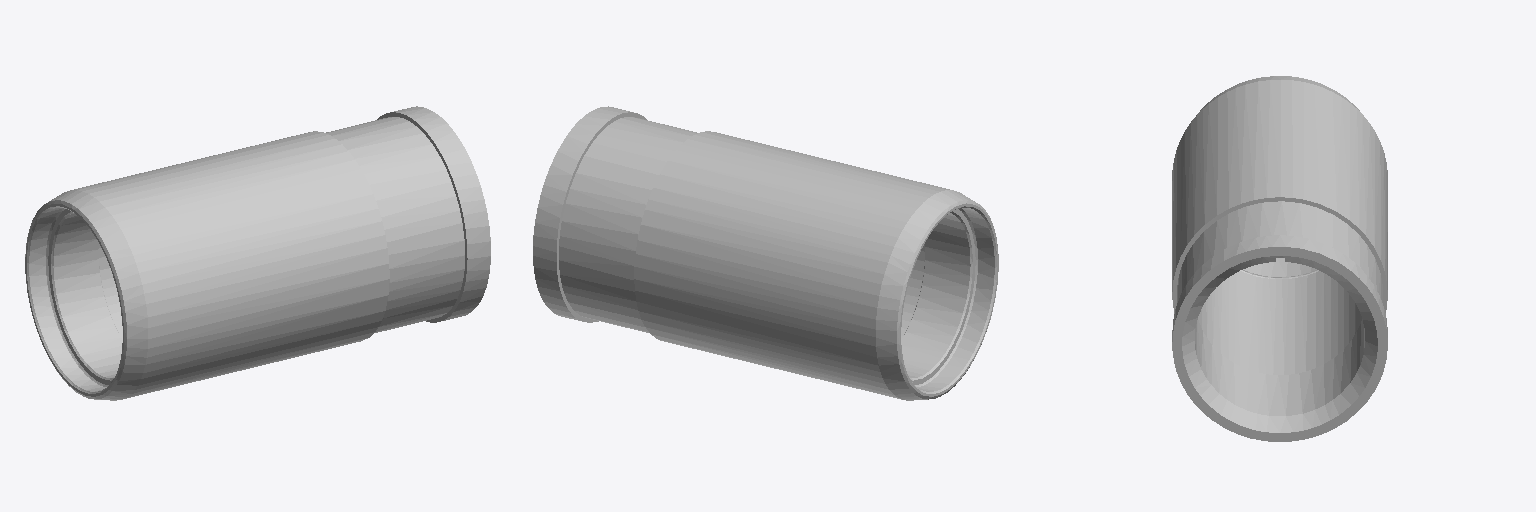
The model's file is front protective shirt.obj.
3 renders of one model, left to right at view 1: azimuth 30°, elevation 25°; view 2: azimuth 150°, elevation 25°; view 3: azimuth 270°, elevation 25°, orthographic.
Parts seen in each view (by area): view 1: imagetostl_mesh; view 2: imagetostl_mesh; view 3: imagetostl_mesh.
Boxes of the visible parts, x1,y1,x2,y2 form: imagetostl_mesh: [25, 106, 490, 400]; imagetostl_mesh: [533, 106, 998, 400]; imagetostl_mesh: [1172, 76, 1387, 441].
Size of the model in its own units: 233 by 120 by 120.